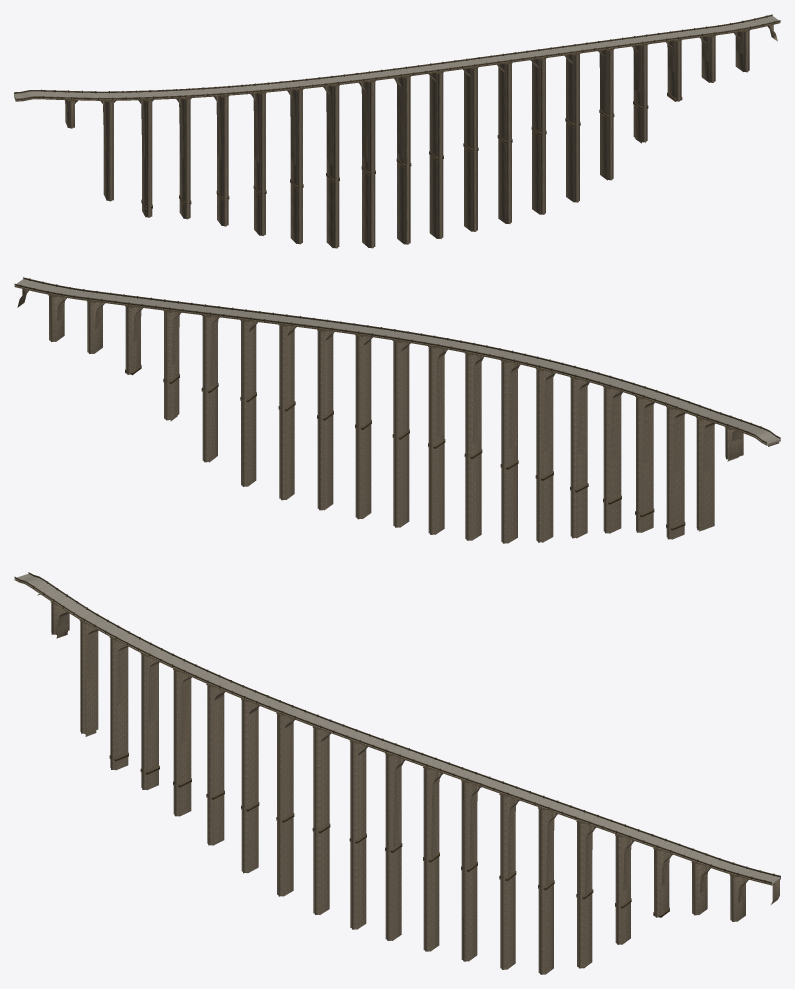
The model's file is skybridge.glb.
3 renders of one model, top to bottom at view 1: azimuth 30°, elevation 25°; view 2: azimuth 150°, elevation 25°; view 3: azimuth 330°, elevation 25°, orthographic. The views are drawn at different scales.
Visible parts, largest first — view 1: skybridge; view 2: skybridge; view 3: skybridge.
Part boxes in pixels (x1,y1,x2,y2): skybridge: [14, 14, 780, 248]; skybridge: [14, 277, 780, 543]; skybridge: [14, 572, 780, 974].
Size of the model in its own units: 718 by 192 by 93.02.
3 materials, 3 textured.
